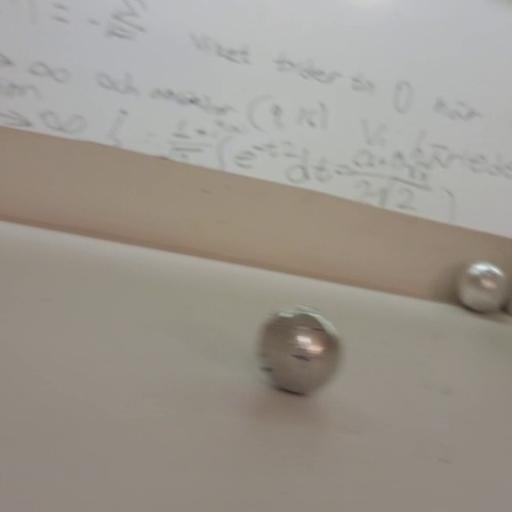alive: (256, 305, 344, 397), (452, 259, 510, 315)
